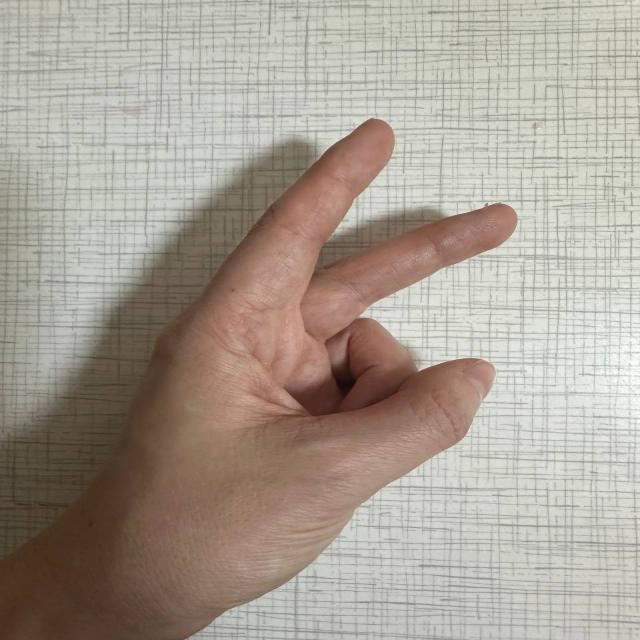k: (200, 90, 524, 532)
